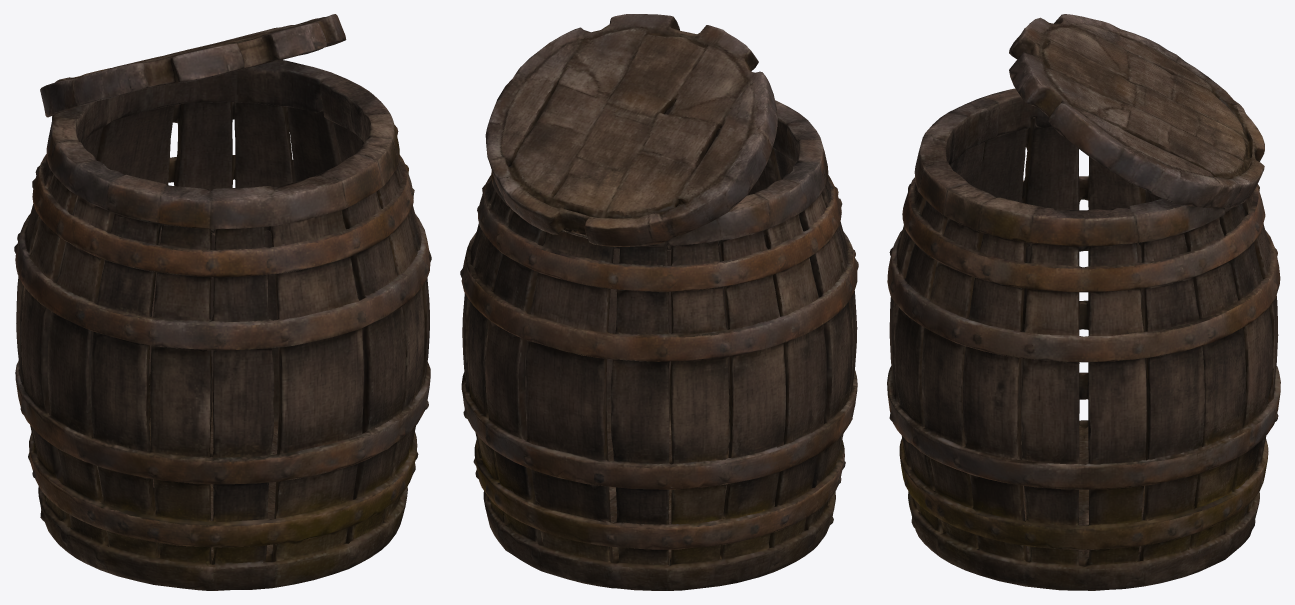
Rendered from prop_barrel.glb.
3 views of the same model, side by side, from view 1: azimuth 30°, elevation 25°; view 2: azimuth 150°, elevation 25°; view 3: azimuth 270°, elevation 25° (orthographic). The views are drawn at different scales.
Size of the model in its own units: 0.7501 by 1 by 0.7503.
Materials: 1 (1 with a texture image).
